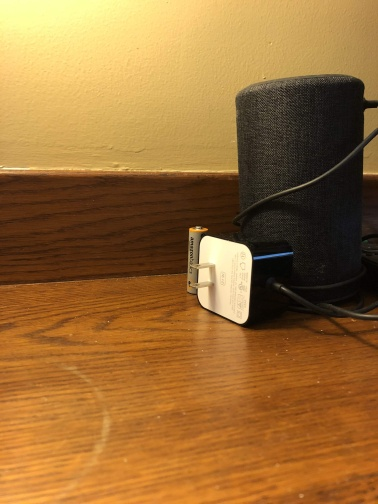battery: (176, 224, 215, 297)
